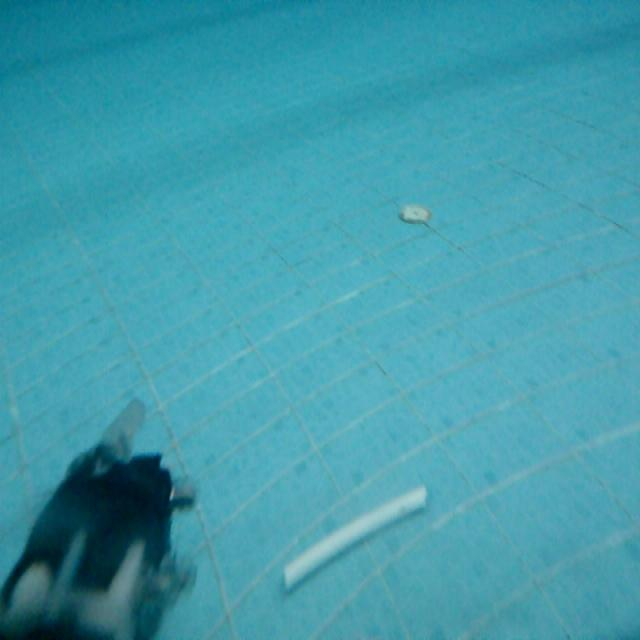Cube: (278, 478, 430, 594)
